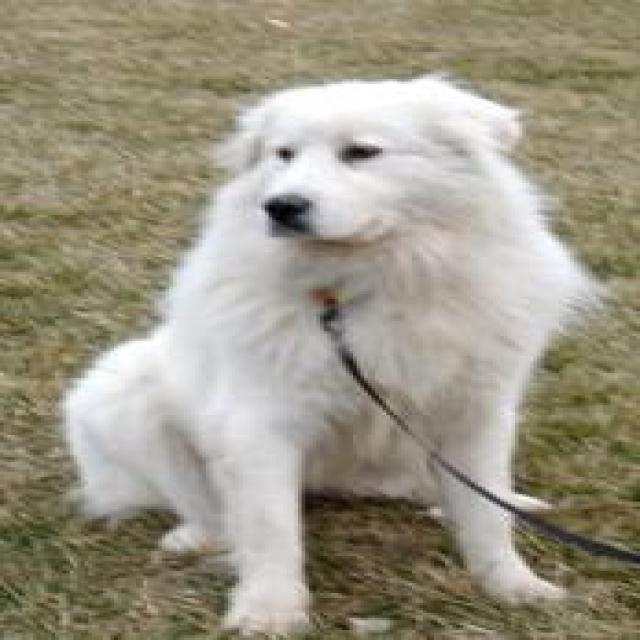dog: (55, 69, 625, 638)
